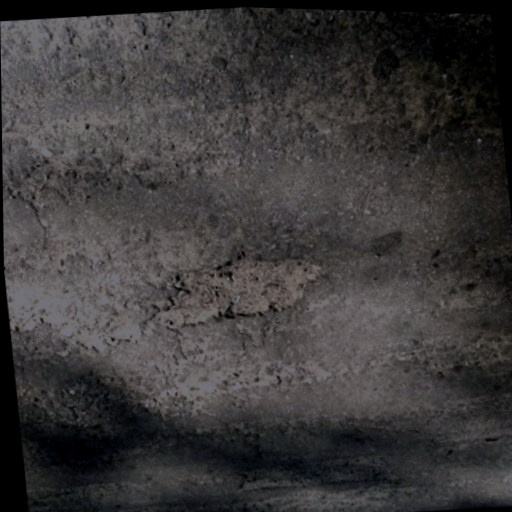pothole: (143, 244, 329, 338)
